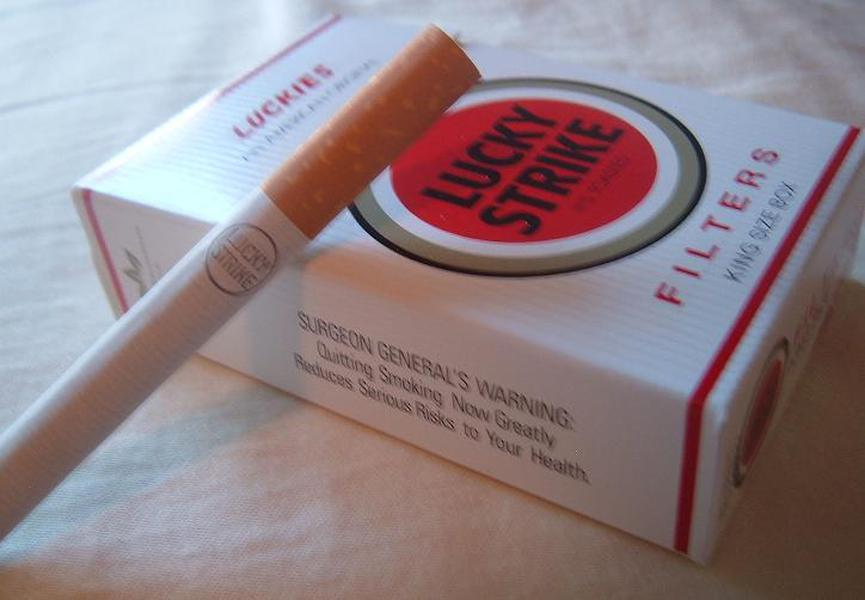lucky_strike_red: (183, 31, 795, 349)
